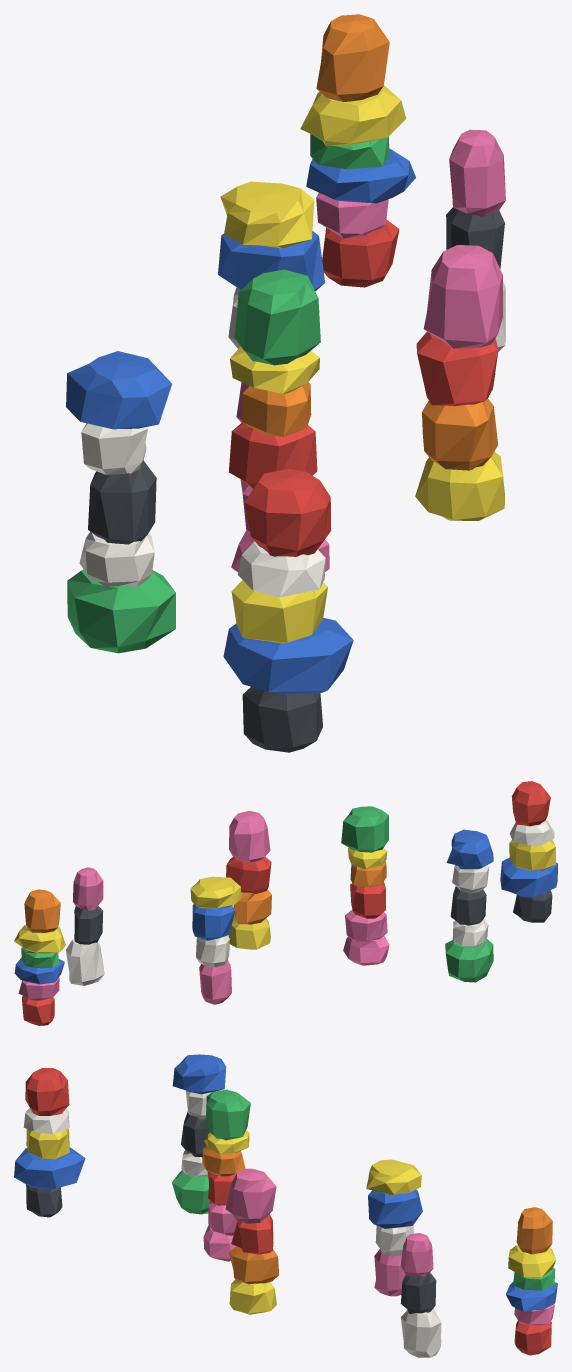
The model's file is lv-seven-magic-mountains.glb.
The picture shows the model from 3 angles, top to bottom: view 1: azimuth 30°, elevation 25°; view 2: azimuth 150°, elevation 25°; view 3: azimuth 270°, elevation 25°; orthographic projection. The views are drawn at different scales.
Visible parts, largest first — view 1: Seven Magic Mountains; view 2: Seven Magic Mountains; view 3: Seven Magic Mountains.
Part boxes in pixels (left/top/right/bottom): Seven Magic Mountains: left=66, top=14, right=505, bottom=752; Seven Magic Mountains: left=14, top=781, right=557, bottom=1025; Seven Magic Mountains: left=14, top=1054, right=557, bottom=1357.
Size of the model in its own units: 24.46 by 10.8 by 33.66.
